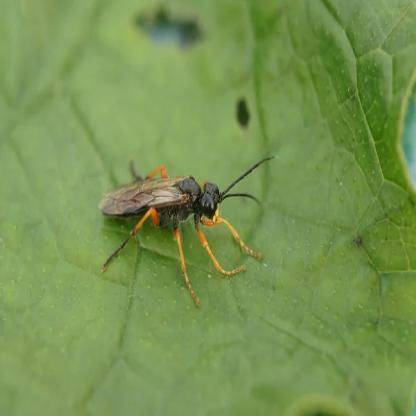sawfly: (105, 161, 277, 302)
